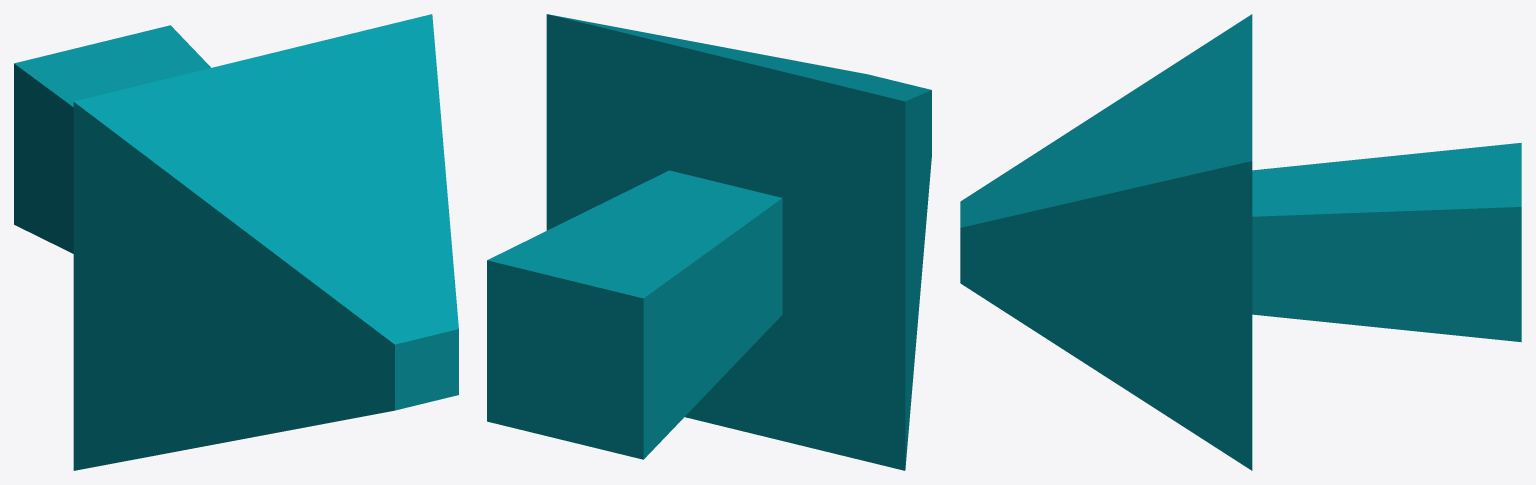
Rendered from Wind_Controller.fbx.
The picture shows the model from 3 angles, left to right: view 1: azimuth 30°, elevation 25°; view 2: azimuth 150°, elevation 25°; view 3: azimuth 270°, elevation 25°; orthographic projection. The views are drawn at different scales.
Visible parts, largest first — view 1: Wind_Controller; view 2: Wind_Controller; view 3: Wind_Controller.
Part boxes in pixels (box(x1,y1,x2,y2)): Wind_Controller: box(14, 14, 458, 470); Wind_Controller: box(487, 14, 931, 470); Wind_Controller: box(960, 14, 1521, 470).
Size of the model in its own units: 74.15 by 72.95 by 120.
